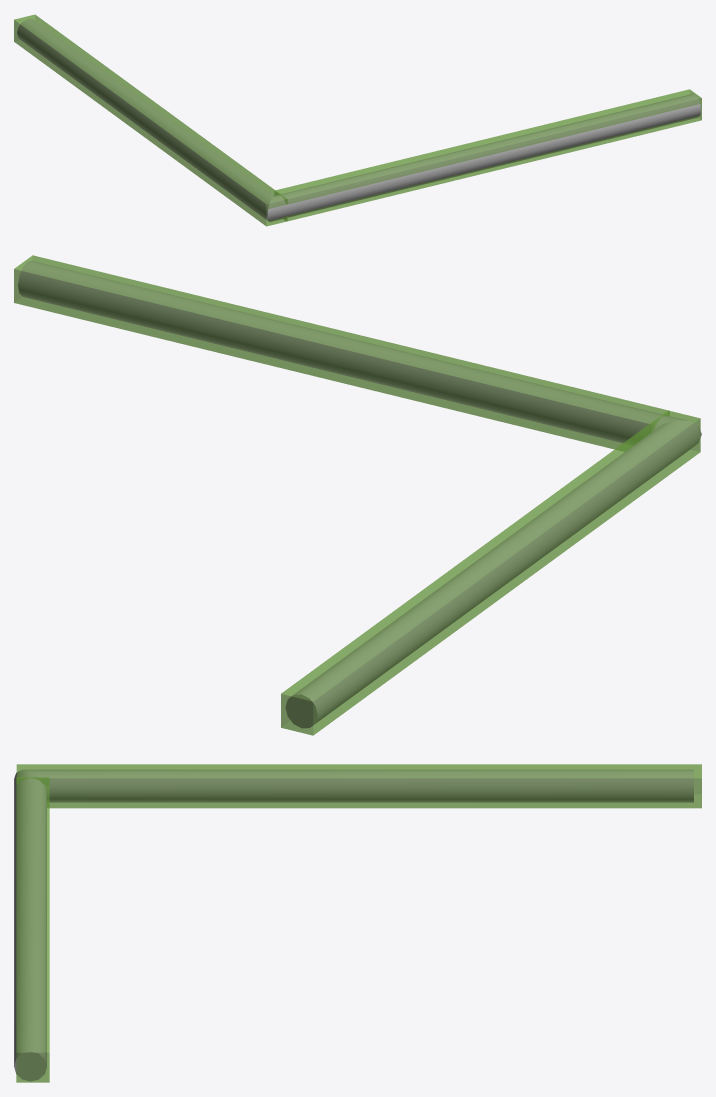
Rendered from M_md_StallBeam1_1m_04.fbx.
3 views of the same model, one above another, from view 1: azimuth 30°, elevation 25°; view 2: azimuth 150°, elevation 25°; view 3: azimuth 270°, elevation 25° (orthographic). The views are drawn at different scales.
Parts seen in each view (by area): view 1: M_md_StallBeam1_1m_04_LOD0, M_md_StallBeam1_1m_04_col_02, M_md_StallBeam1_1m_04_col_01; view 2: M_md_StallBeam1_1m_04_LOD0, M_md_StallBeam1_1m_04_col_01, M_md_StallBeam1_1m_04_col_02; view 3: M_md_StallBeam1_1m_04_LOD0, M_md_StallBeam1_1m_04_col_02, M_md_StallBeam1_1m_04_col_01.
Part boxes in pixels (x1,y1,x2,y2): M_md_StallBeam1_1m_04_LOD0: [17, 19, 701, 221]; M_md_StallBeam1_1m_04_col_02: [14, 14, 287, 226]; M_md_StallBeam1_1m_04_col_01: [274, 89, 701, 221]; M_md_StallBeam1_1m_04_LOD0: [18, 260, 701, 728]; M_md_StallBeam1_1m_04_col_01: [14, 255, 669, 451]; M_md_StallBeam1_1m_04_col_02: [281, 410, 700, 735]; M_md_StallBeam1_1m_04_LOD0: [14, 769, 693, 1081]; M_md_StallBeam1_1m_04_col_02: [16, 764, 701, 808]; M_md_StallBeam1_1m_04_col_01: [16, 777, 49, 1082].
Size of what is drawn, in the model's own units: 103 by 5 by 104.
